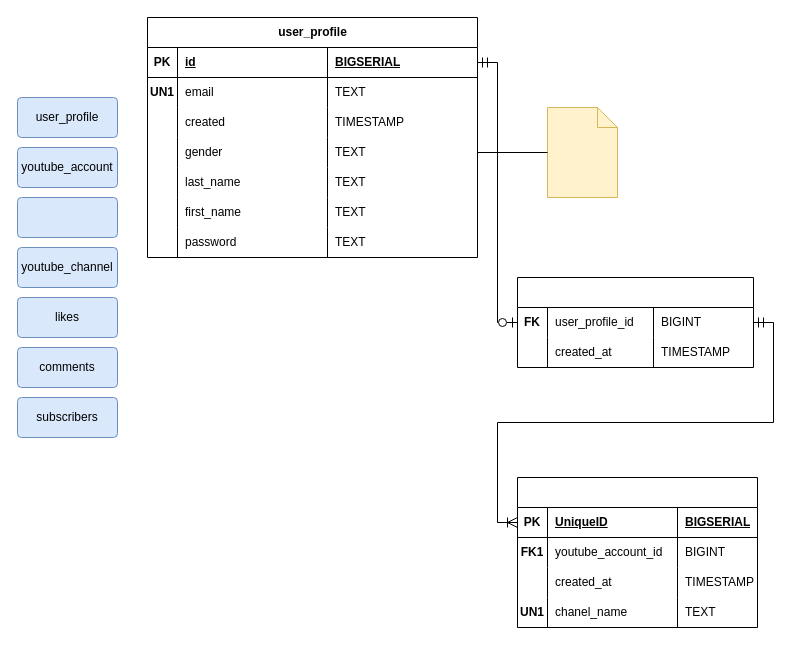
The diagram is 802 pixels wide and 645 high, and some of its shapes have lost their labels. Here are the shapes that lost their labels. From the top down, the box of each, then its label:
(546, 106, 618, 198): MALE, FEMALE
(16, 196, 118, 238): video
(516, 276, 754, 368): youtube_acount
(516, 476, 758, 628): youtube_chanel
